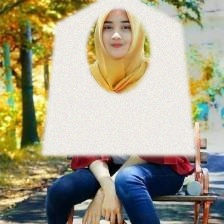Mukena: (41, 0, 196, 155)
